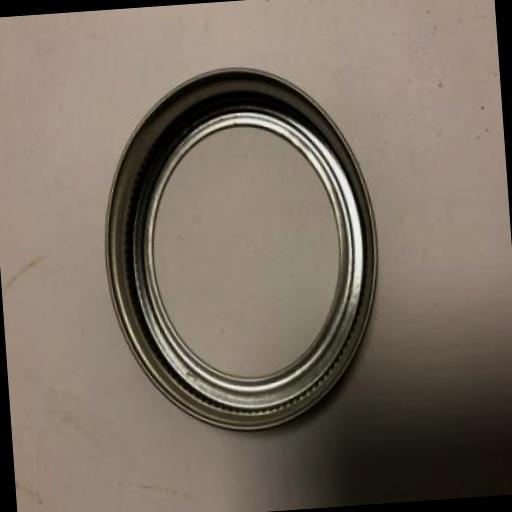metal: (92, 57, 389, 442)
